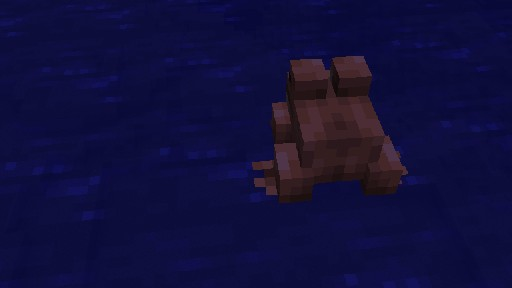frog: (251, 54, 408, 203)
